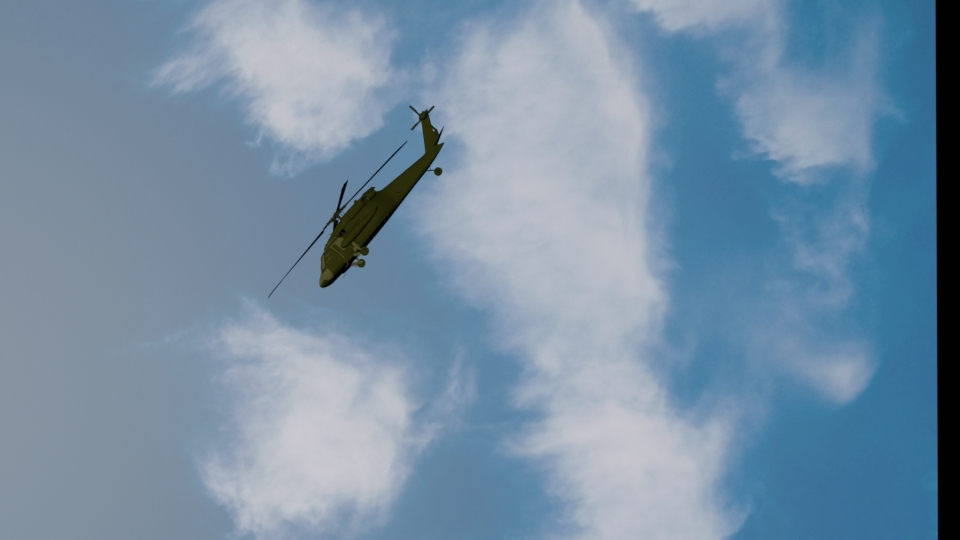heli: (317, 103, 446, 293)
